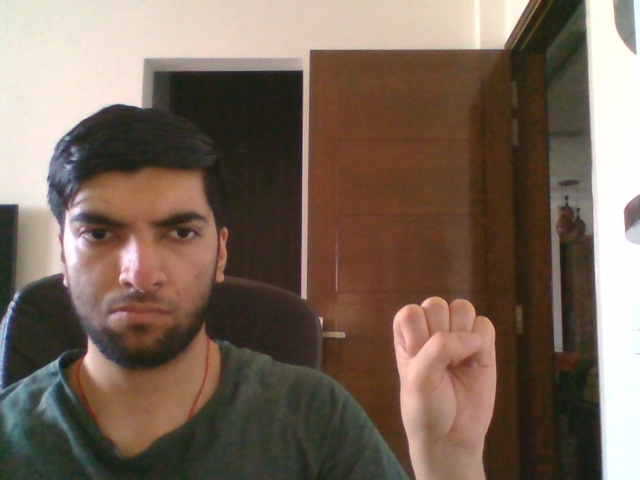LetterE: (392, 295, 497, 448)
